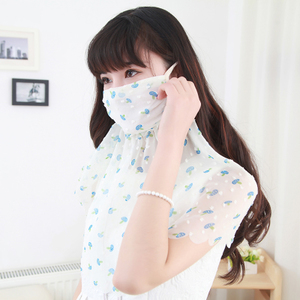face_mask: (101, 38, 170, 129)
